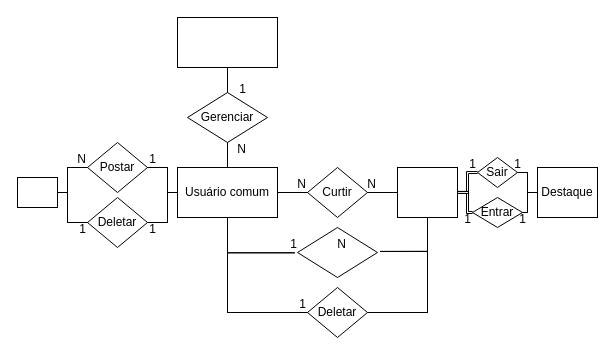
The diagram is 615 pixels wide and 355 high, and some of its shapes have lost their labels. The centre of each missing label's shape, as x and y in pixels:
Comentar: point (337, 252)
Perfil: point (37, 192)
Postagem: point (427, 192)
Usuário master: point (227, 42)
